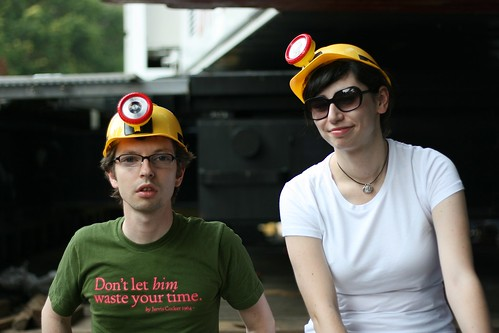person hardhat: (288, 43, 392, 151), (101, 101, 188, 212)
